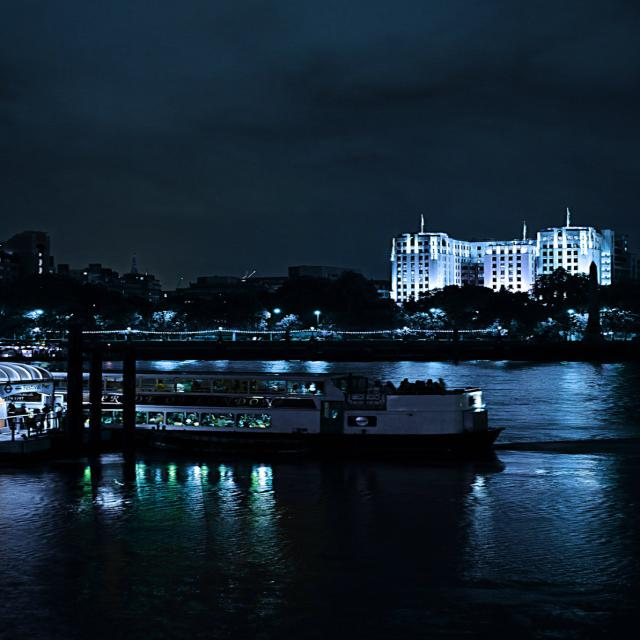Boat: (98, 377, 603, 487), (0, 331, 104, 473)
